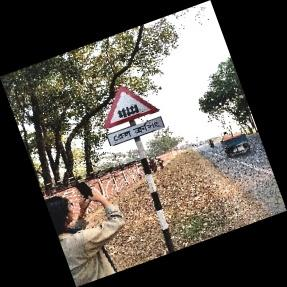Rail-crossing: (103, 86, 164, 148)
